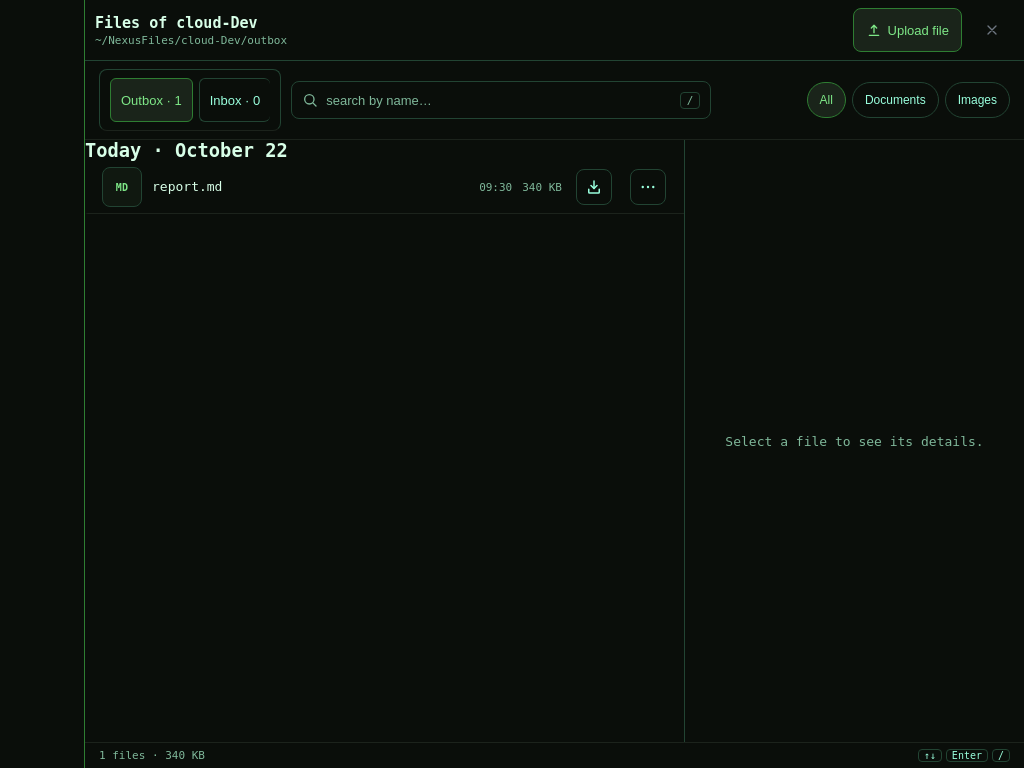
Test: FilesPanel desktop — pannello dettaglio › senza selezione: segnaposto; al click sulla riga: nome, ORIGINALE in mono e meta
Expected: the text "Select a file to see its details." is shown, [725,434,984,448]
Click the text "report.md". click: coordinates (187, 186)
box: [152,178,222,194]
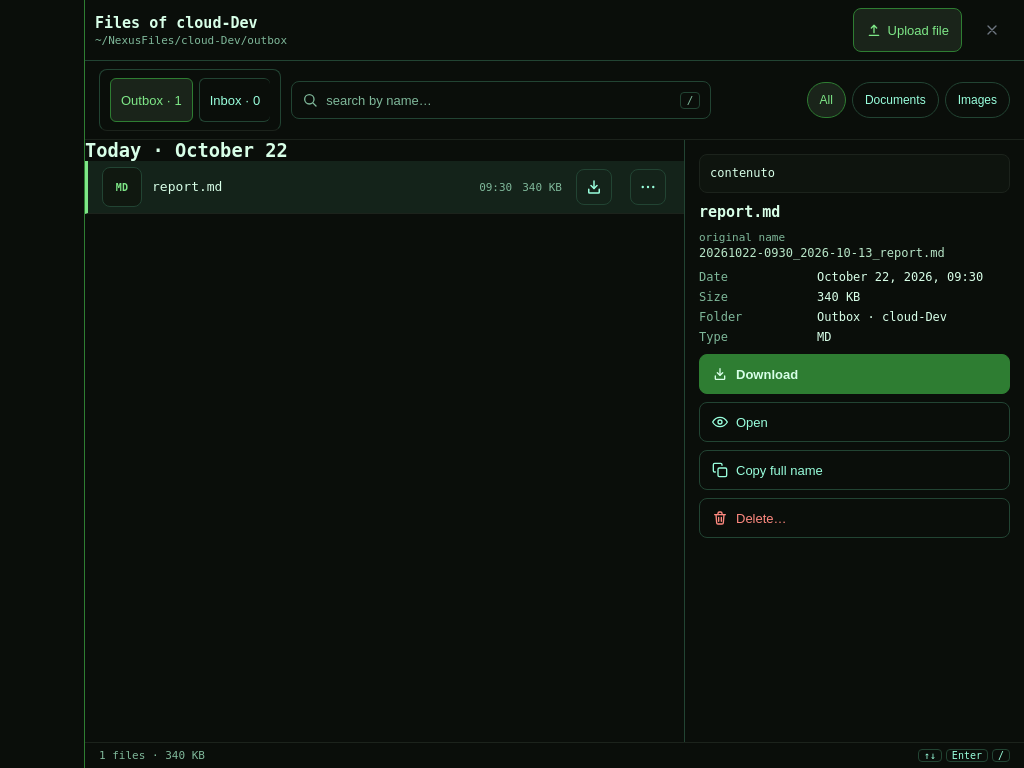
Expected: the text "report.md" below "contenuto" is shown, [699,203,780,221]
Expected: the text "October 22, 2026, 09:30" is shown, [817,270,1010,284]
Expected: the text "Outbox · cloud-Dev" is shown, [817,310,947,324]
